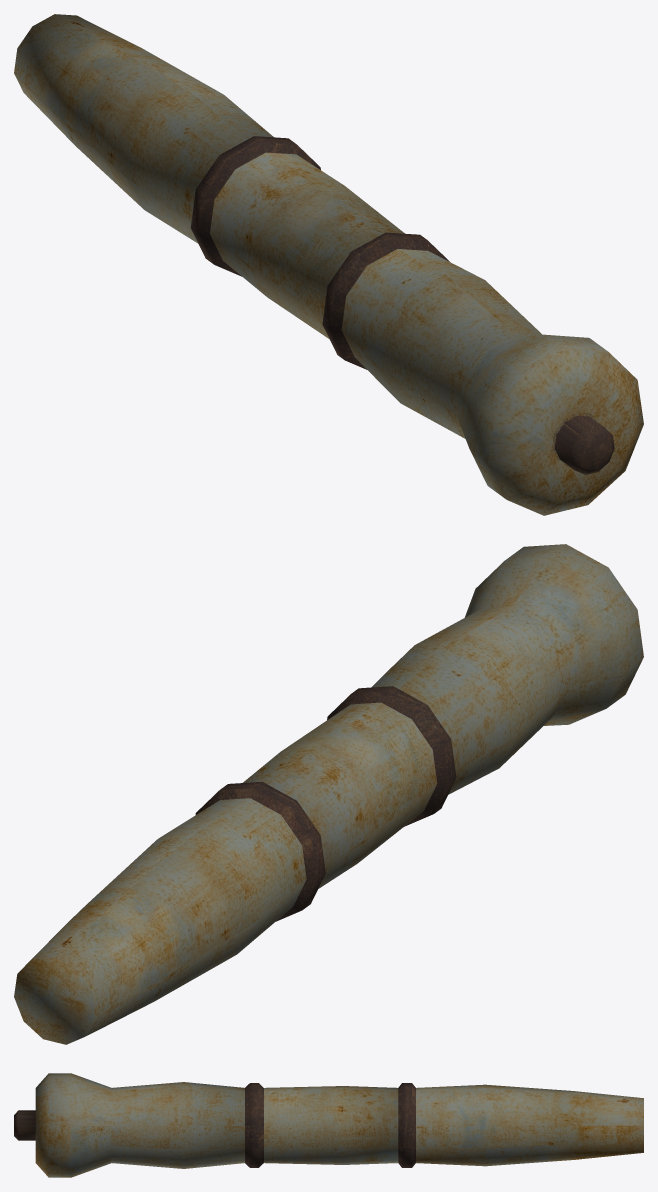
File: Cannon.glb
3 views of the same model, one above another, from view 1: azimuth 30°, elevation 25°; view 2: azimuth 150°, elevation 25°; view 3: azimuth 270°, elevation 25° (orthographic). The views are drawn at different scales.
Visible parts, largest first — view 1: Cannon, Hammer; view 2: Cannon; view 3: Cannon, Hammer.
Boxes of the visible parts, x1,y1,x2,y2 form: Cannon: [14, 14, 643, 515]; Hammer: [552, 413, 614, 474]; Cannon: [14, 544, 643, 1044]; Cannon: [35, 1073, 643, 1177]; Hammer: [14, 1110, 35, 1140].
Bounding box in the file's own units: 0.6878 × 0.6808 × 4.14.
Materials: 3 (3 with a texture image).
